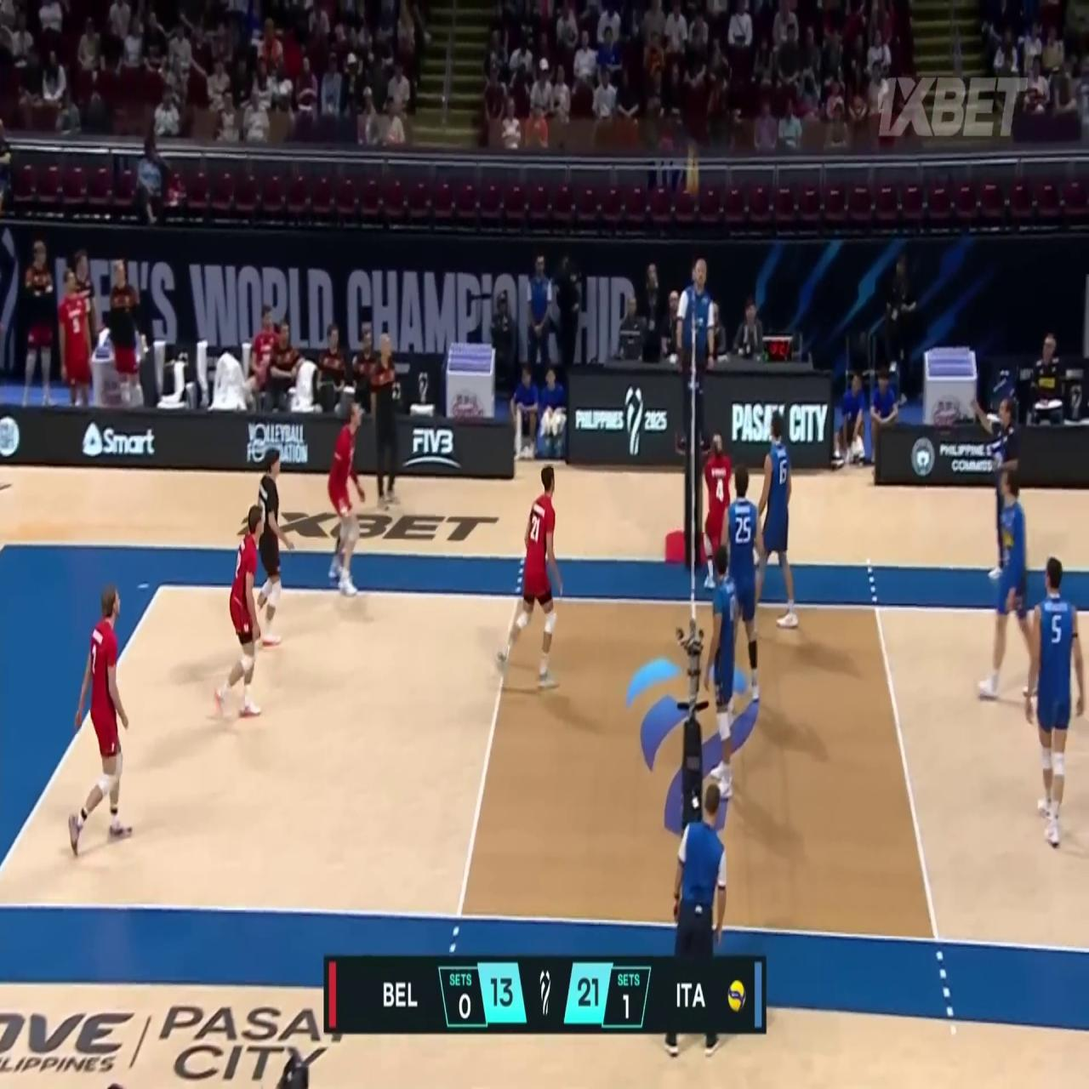ball: (686, 151, 699, 196)
